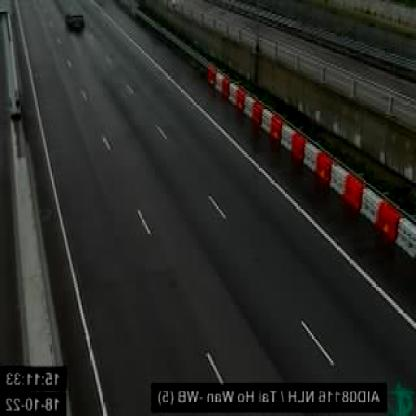Car: (63, 11, 86, 35)
